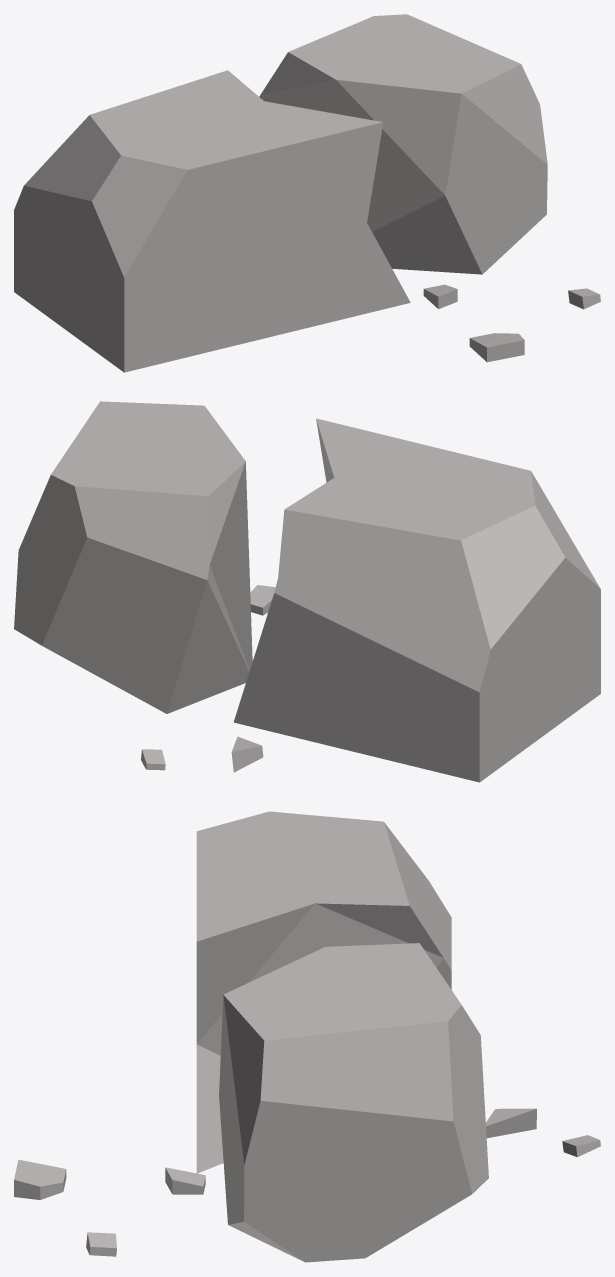
Rendered from Rock_Block_crk_m_01.fbx.
3 views of the same model, one above another, from view 1: azimuth 30°, elevation 25°; view 2: azimuth 150°, elevation 25°; view 3: azimuth 270°, elevation 25° (orthographic). The views are drawn at different scales.
Parts seen in each view (by area): view 1: Rock_Block_crk_m_01; view 2: Rock_Block_crk_m_01; view 3: Rock_Block_crk_m_01.
Part boxes in pixels (box(x1,y1,x2,y2)): Rock_Block_crk_m_01: box(14, 14, 600, 372); Rock_Block_crk_m_01: box(14, 401, 600, 782); Rock_Block_crk_m_01: box(14, 811, 600, 1262).
Bounding box in the file's own units: 149 × 74.13 × 147.
